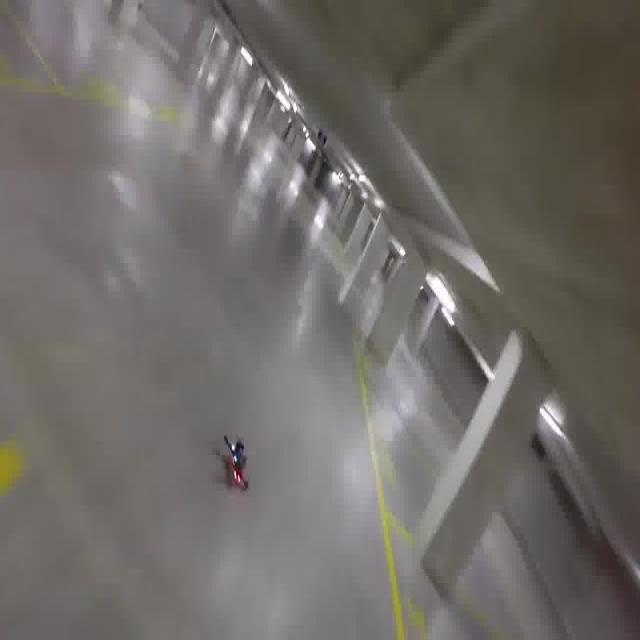drones: (224, 427, 256, 492)
